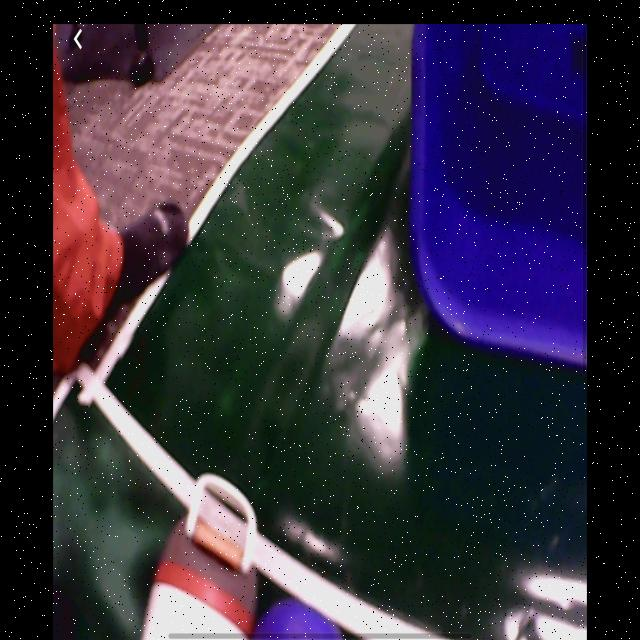ball: (257, 598, 345, 640)
